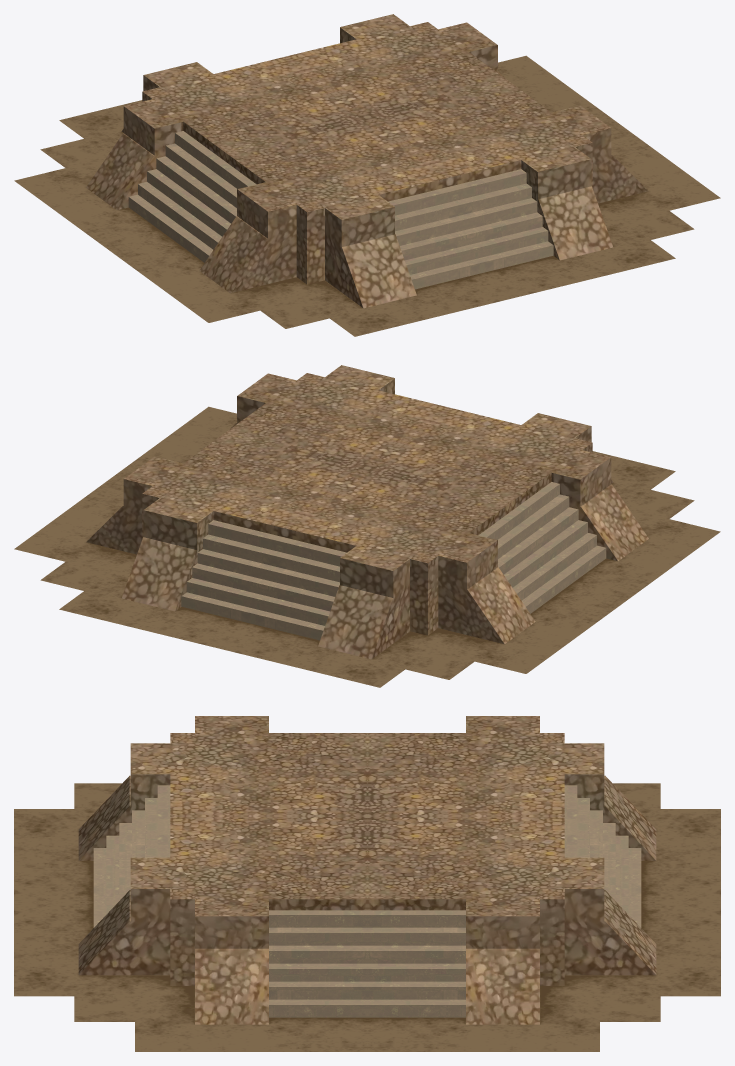
Rendered from PistadeBaile.gltf.
3 views of the same model, one above another, from view 1: azimuth 30°, elevation 25°; view 2: azimuth 150°, elevation 25°; view 3: azimuth 270°, elevation 25° (orthographic). The views are drawn at different scales.
Visible parts, largest first — view 1: PistadeBaile; view 2: PistadeBaile; view 3: PistadeBaile.
Boxes of the visible parts, x1=… form: PistadeBaile: x1=14, y1=14, x2=720, y2=336; PistadeBaile: x1=14, y1=365, x2=720, y2=687; PistadeBaile: x1=14, y1=716, x2=720, y2=1051.
Bounding box in the file's own units: 667 × 90.08 × 668.
1 material, 1 textured.
